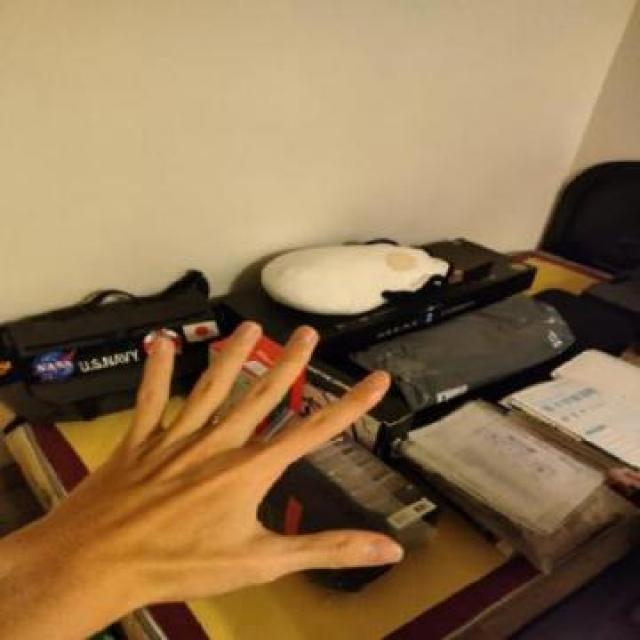no-gloves: (79, 314, 405, 610)
